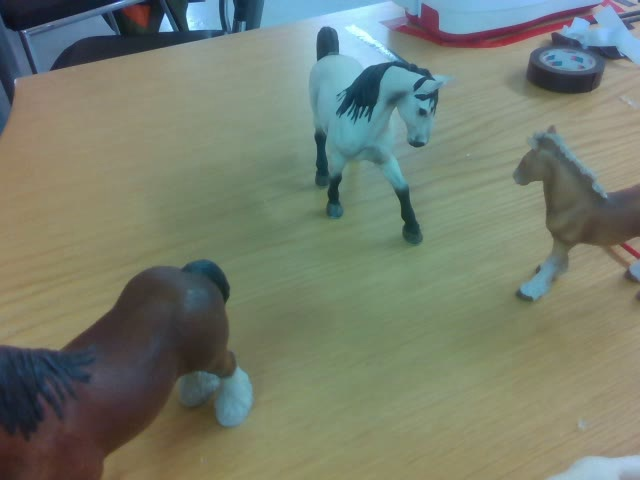toy: (306, 24, 454, 245)
